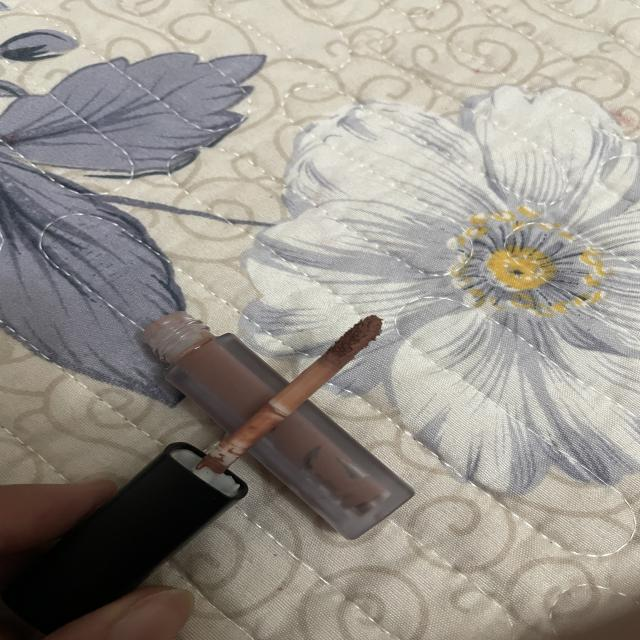lip gloss: (134, 312, 425, 536)
